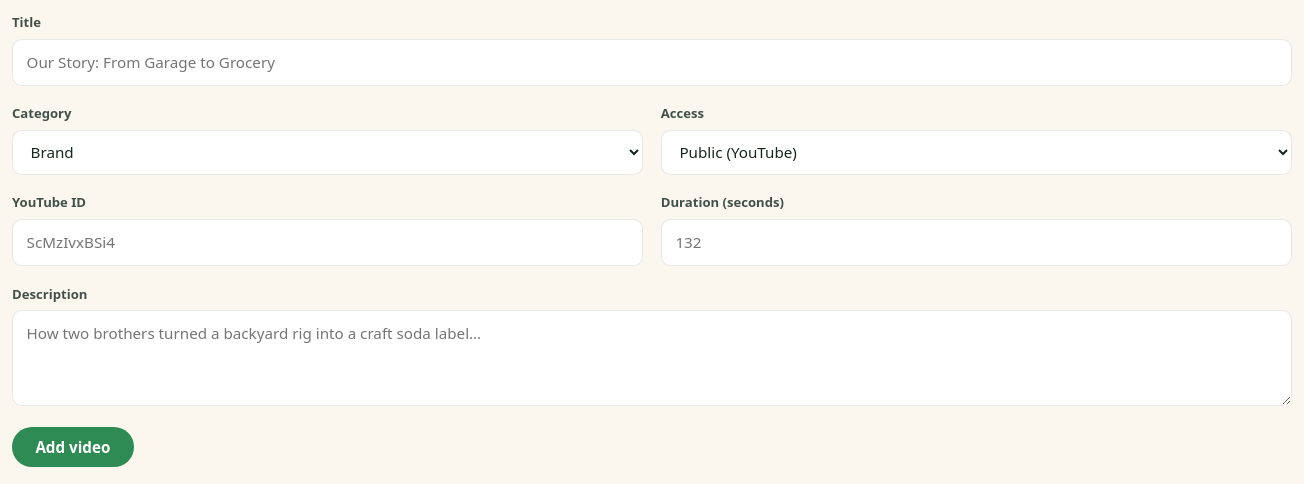
Test case: VideoForm (conditional source field) › swaps the YouTube field for a storage path when access changes to rep
Expected: the field labelled "YouTube ID" is shown, [12,219,643,266]
Expected: the field labelled "storage path" is not shown
Select "Rep-gated (Storage)" in the dropdown labelled "Access" at (976, 152), box [661,130,1292,175]
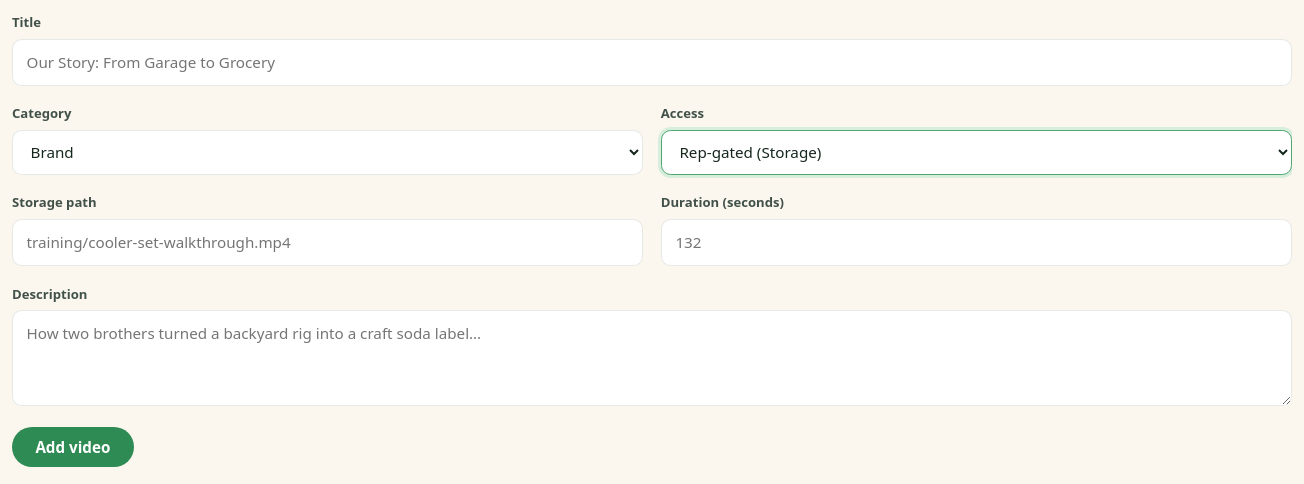
Expected: the field labelled "Storage path" is shown, [12,219,643,266]
Now the label labelled "YouTube ID" is gone
